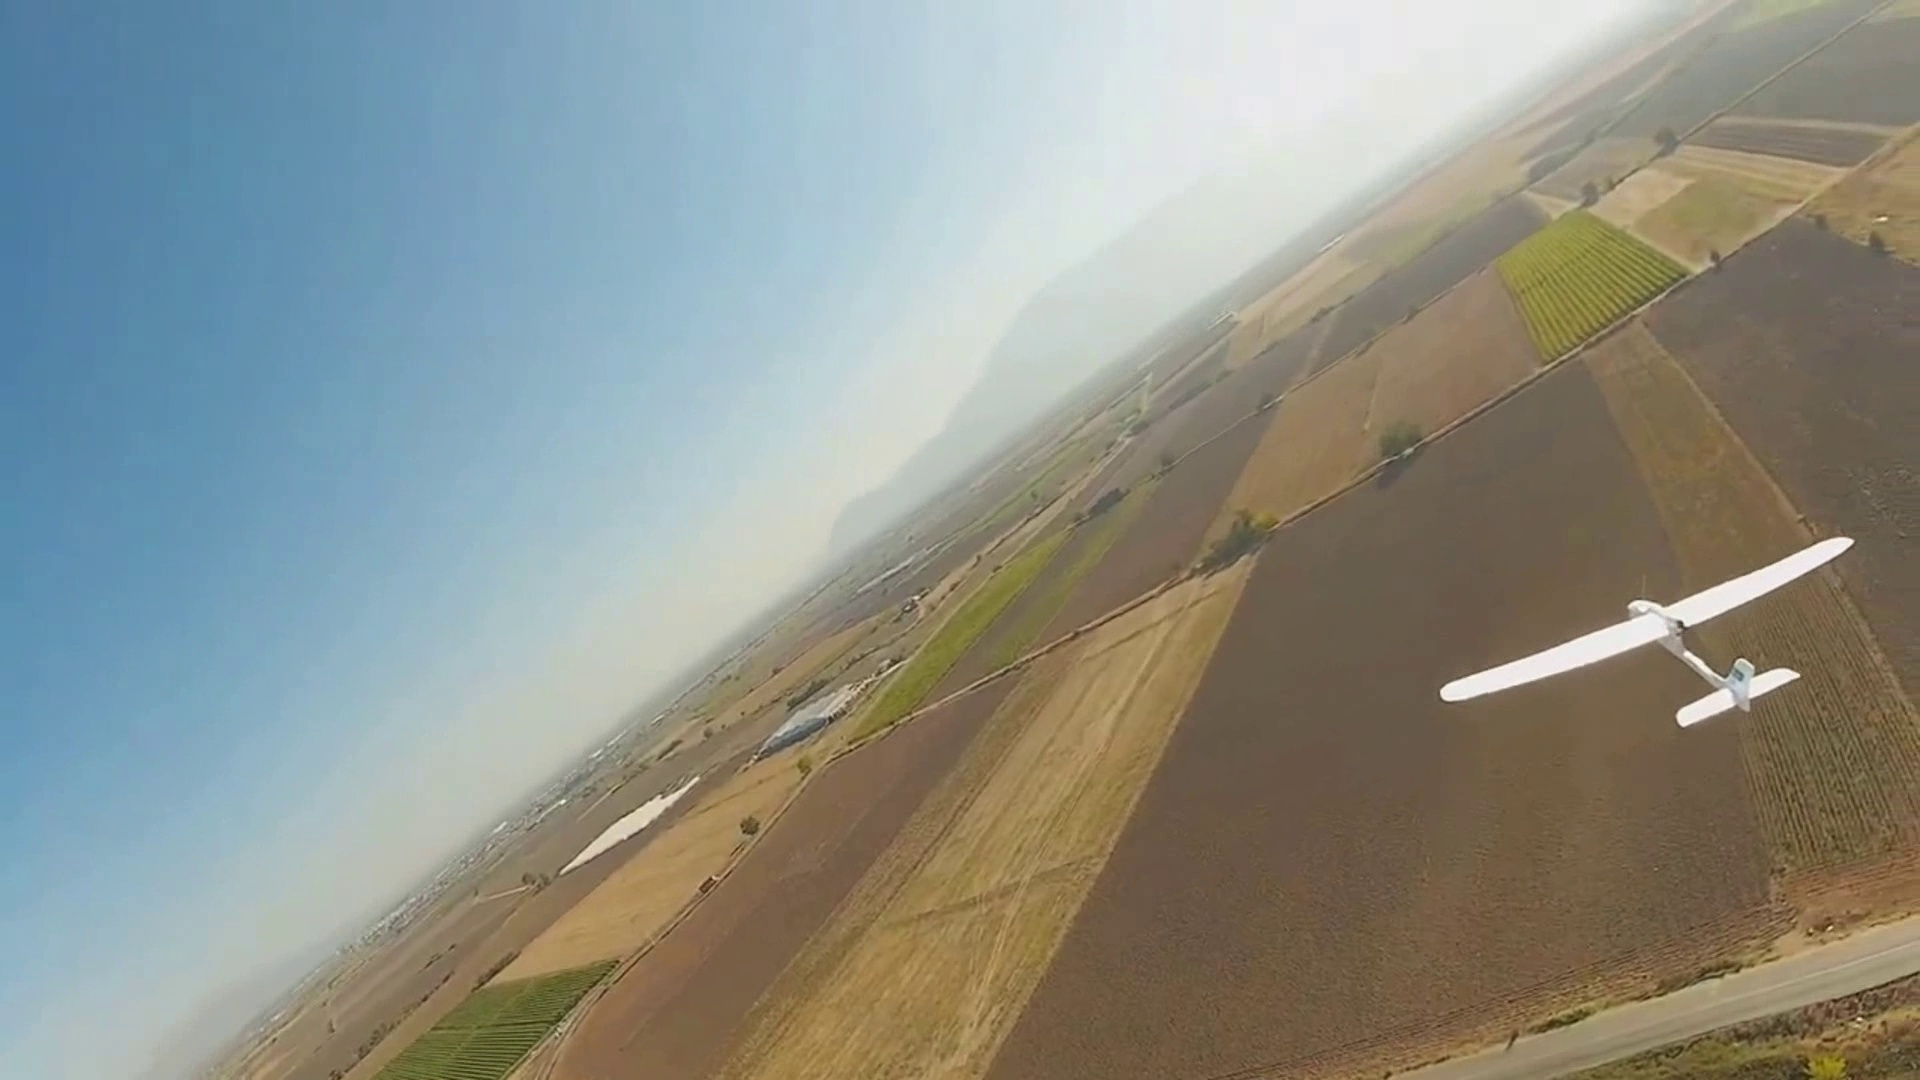airplane: (1439, 529, 1853, 735)
